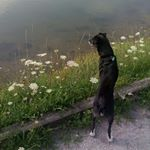puppy: (84, 30, 121, 145)
